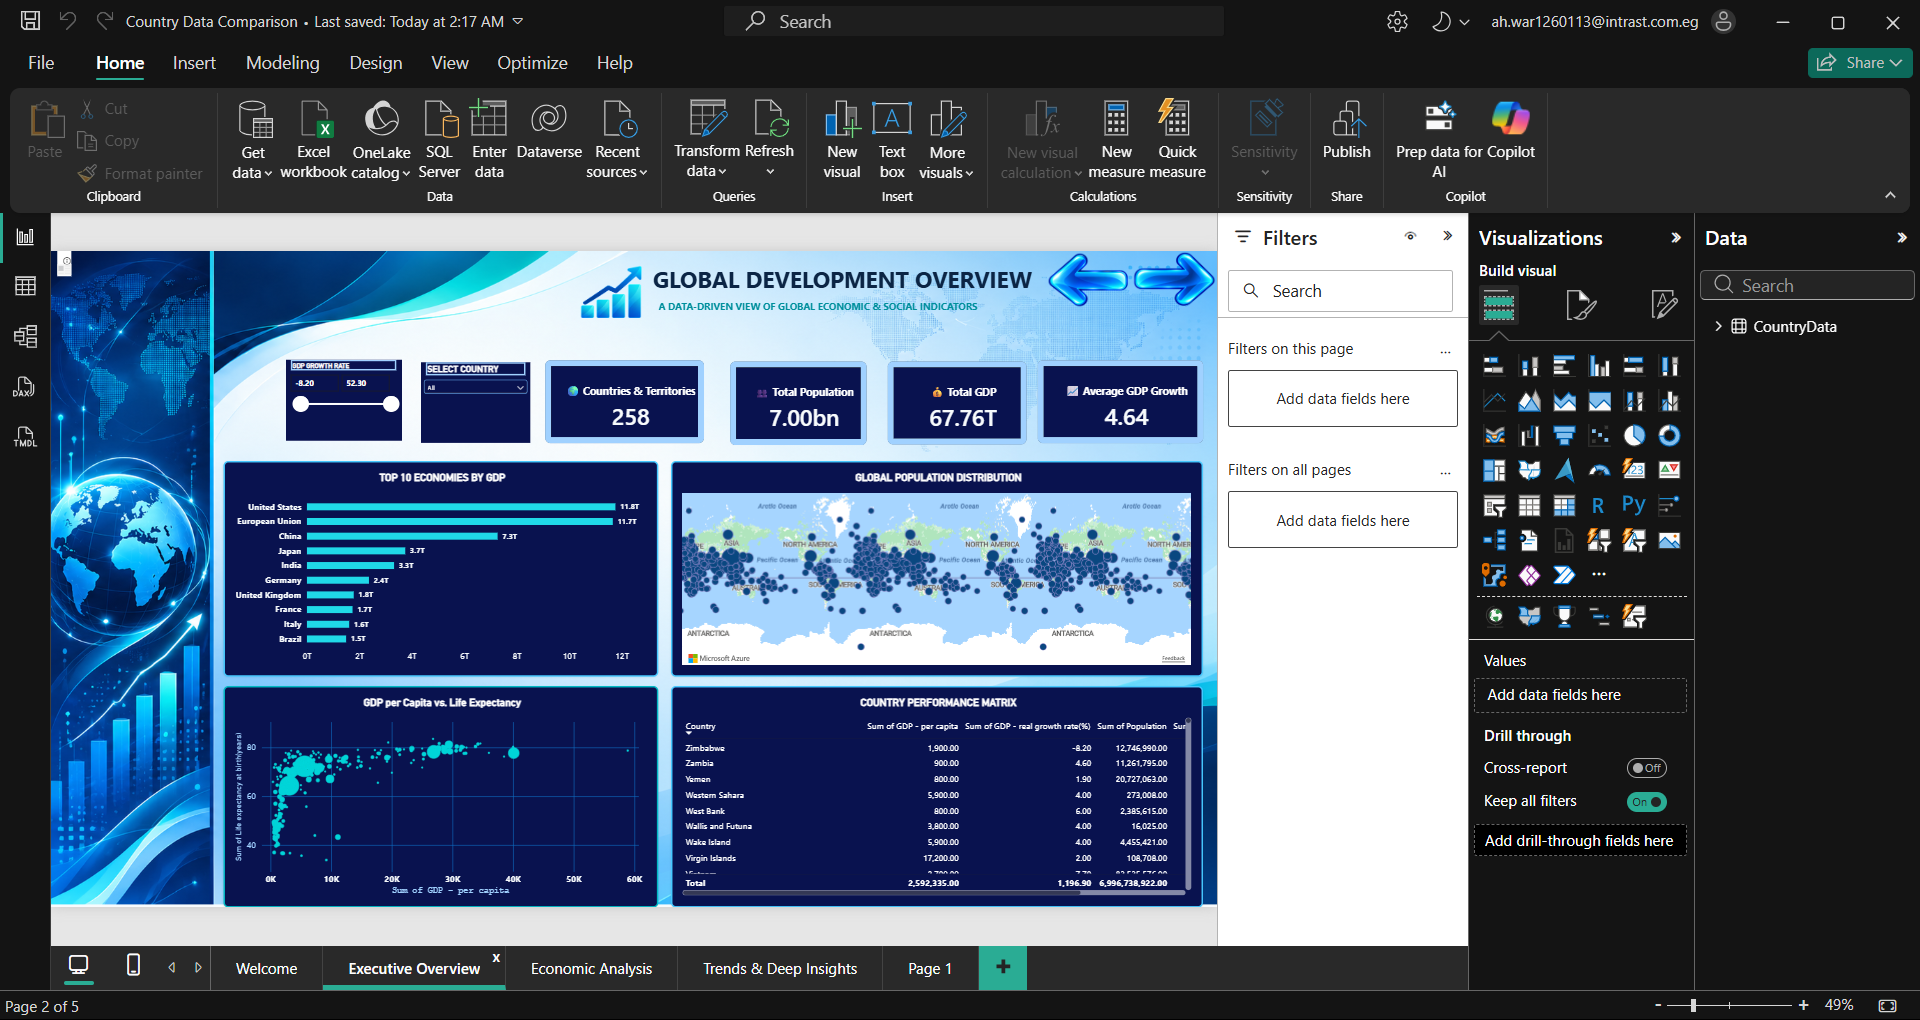

This screenshot's page, from the dashboard's own definition file:
{"tool":"powerbi","page":{"name":"Executive Overview","canvas":[1920,1080],"ordinal":1},"visuals":[{"type":"cardVisual","box":[10.9,0,23.5,41.6],"z":0},{"type":"textbox","box":[944.7,20.7,716.8,72.5],"z":1000},{"type":"textbox","box":[1000.6,80.8,660.9,33.1],"z":2000},{"type":"cardVisual","title":"🌍 Countries & Territories","fields":{"Data":["CountryData.Total Countries"]},"box":[813.5,178.5,263.2,138],"z":3000},{"type":"cardVisual","fields":{"Data":["CountryData.Total Population"]},"box":[1117.2,180.4,226.4,139.9],"z":4000},{"type":"cardVisual","fields":{"Data":["CountryData.Total GDP"]},"box":[1376.7,180.4,230.1,138],"z":5000},{"type":"cardVisual","fields":{"Data":["CountryData.Average GDP Growth"]},"box":[1623.3,178.5,274.2,138],"z":6000},{"type":"clusteredBarChart","title":"TOP 10 ECONOMIES BY GDP","fields":{"Category":["CountryData.Country"],"Y":["Sum(CountryData.GDP)"]},"box":[283.4,346,716,355.2],"z":7000},{"type":"azureMap","title":"GLOBAL POPULATION DISTRIBUTION","fields":{"Category":["CountryData.Country"],"Size":["Sum(CountryData.Population)"]},"box":[1021.5,346,876.1,355.2],"z":8000},{"type":"scatterChart","title":"GDP per Capita vs. Life Expectancy","fields":{"Category":["CountryData.Country"],"Size":["Sum(CountryData.Population)"],"X":["Sum(CountryData.GDP - per capita)"],"Y":["Sum(CountryData.Life expectancy at birth(years))"]},"box":[283.4,716,716,364.4],"z":9000},{"type":"tableEx","title":"COUNTRY PERFORMANCE MATRIX","fields":{"Values":["CountryData.Country","Sum(CountryData.GDP - per capita)","Sum(CountryData.GDP - real growth rate(%))","Sum(CountryData.Population)","Sum(CountryData.Life expectancy at birth(years))"]},"box":[1021.5,716,876.1,364.4],"z":10000},{"type":"slicer","fields":{"Values":["CountryData.Country"]},"box":[609.2,182.2,180.4,132.5],"z":11000},{"type":"slicer","fields":{"Values":["CountryData.GDP - real growth rate(%)"]},"box":[386.5,178.5,189.6,132.5],"z":12000},{"type":"image","box":[861.8,20.7,119.6,93.9],"z":13000},{"type":"image","box":[1777.5,0,142.9,93.2],"z":14000},{"type":"image","box":[1638.7,0,138.8,93.2],"z":15000}]}

Visuals, with their boxes on the page's 1920x1080 design canvas (x1, y1, x2, y2). These are canvas units, not pixel positions in the 1920x1020 screenshot, which may show the page scaled, cropped or inside an application window:
cardVisual: [11, 0, 34, 42]
textbox: [945, 21, 1662, 93]
textbox: [1001, 81, 1662, 114]
"🌍 Countries & Territories" cardVisual: [814, 178, 1077, 316]
cardVisual - CountryData.Total Population: [1117, 180, 1344, 320]
cardVisual - CountryData.Total GDP: [1377, 180, 1607, 318]
cardVisual - CountryData.Average GDP Growth: [1623, 178, 1898, 316]
"TOP 10 ECONOMIES BY GDP" clusteredBarChart: [283, 346, 999, 701]
"GLOBAL POPULATION DISTRIBUTION" azureMap: [1022, 346, 1898, 701]
"GDP per Capita vs. Life Expectancy" scatterChart: [283, 716, 999, 1080]
"COUNTRY PERFORMANCE MATRIX" tableEx: [1022, 716, 1898, 1080]
slicer - CountryData.Country: [609, 182, 790, 315]
slicer - CountryData.GDP - real growth rate(%): [386, 178, 576, 311]
image: [862, 21, 981, 115]
image: [1778, 0, 1920, 93]
image: [1639, 0, 1778, 93]
